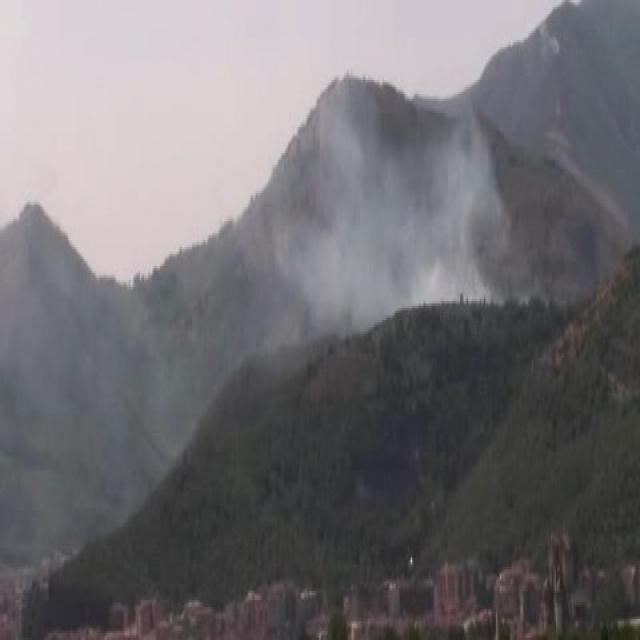smoke: (278, 121, 502, 326)
